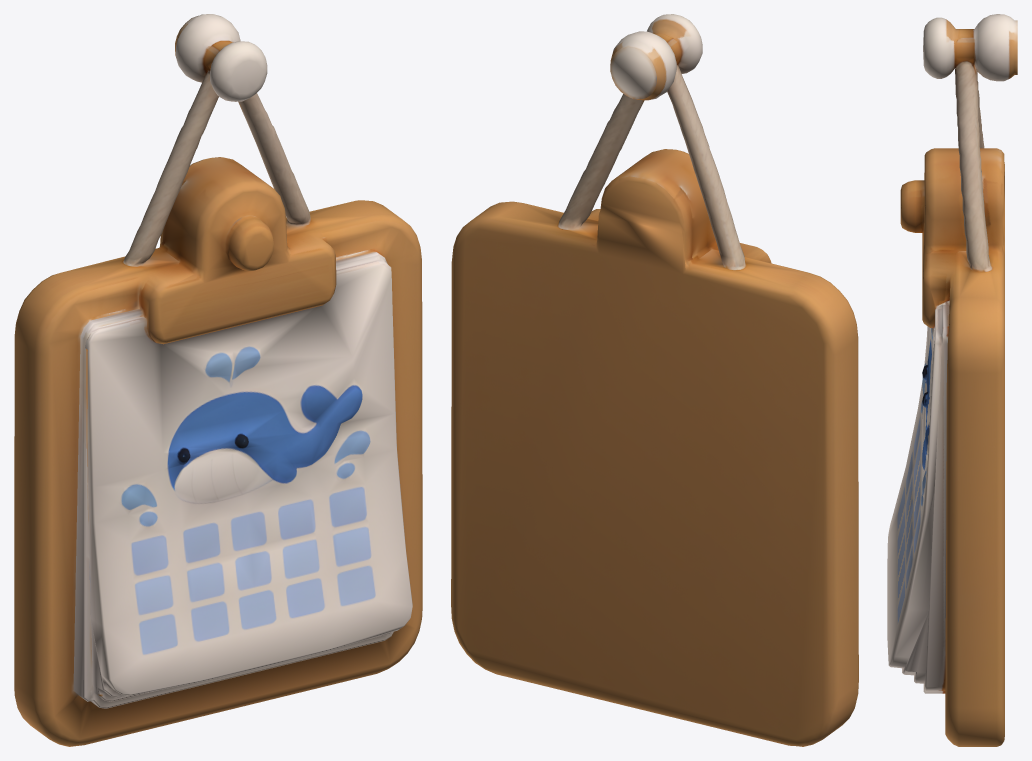
The model's file is wall-calendar.glb.
The picture shows the model from 3 angles, left to right: view 1: azimuth 30°, elevation 25°; view 2: azimuth 150°, elevation 25°; view 3: azimuth 270°, elevation 25°; orthographic projection. The views are drawn at different scales.
Visible parts, largest first — view 1: wall_calendar_mesh; view 2: wall_calendar_mesh; view 3: wall_calendar_mesh.
Part boxes in pixels (x1,y1,x2,y2): wall_calendar_mesh: (14,14,422,746); wall_calendar_mesh: (451,14,858,746); wall_calendar_mesh: (887,14,1017,746).
Bounding box in the file's own units: 0.2877 × 0.48 × 0.0865.
1 material, 1 textured.
